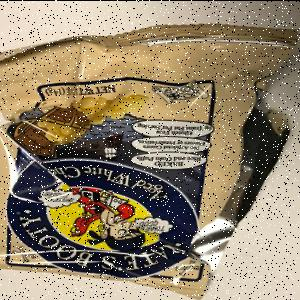Trash: (2, 22, 300, 300)
